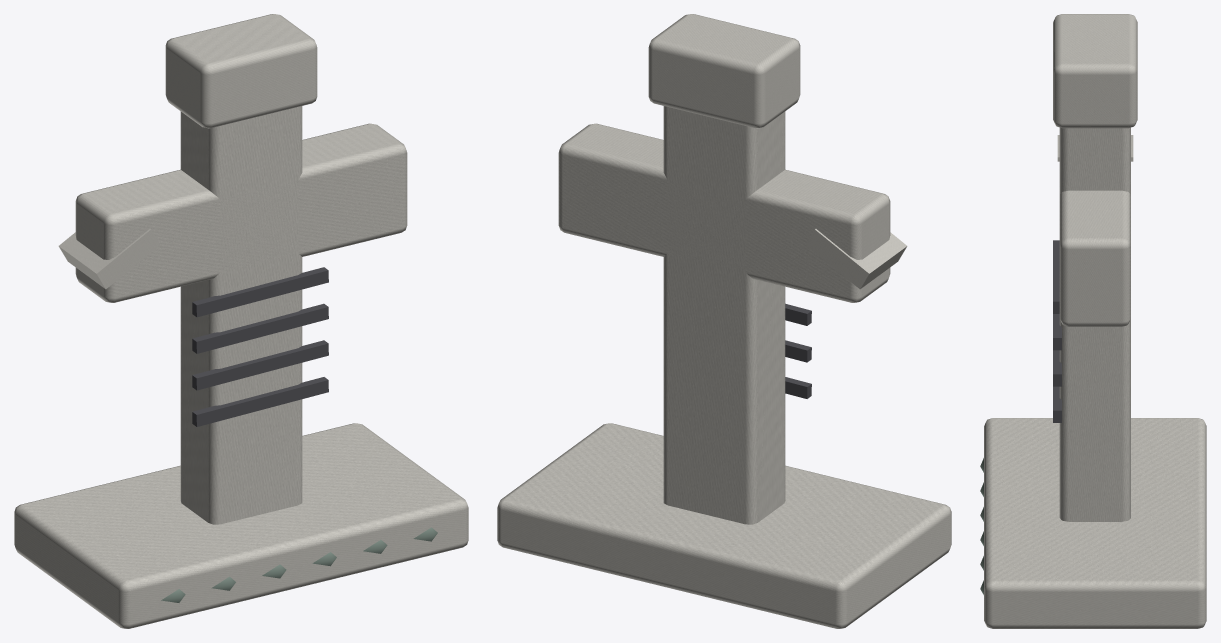
The model's file is tombstone-cross.glb.
3 renders of one model, left to right at view 1: azimuth 30°, elevation 25°; view 2: azimuth 150°, elevation 25°; view 3: azimuth 270°, elevation 25°, orthographic.
Visible parts, largest first — view 1: foam-tombstone-cross; view 2: foam-tombstone-cross; view 3: foam-tombstone-cross.
Part boxes in pixels (x1,y1,x2,y2): foam-tombstone-cross: (14, 14, 468, 628); foam-tombstone-cross: (497, 14, 951, 628); foam-tombstone-cross: (980, 14, 1206, 628).
Size of the model in its own units: 0.9 by 1.26 by 0.5085.
Materials: 3 (1 with a texture image).
